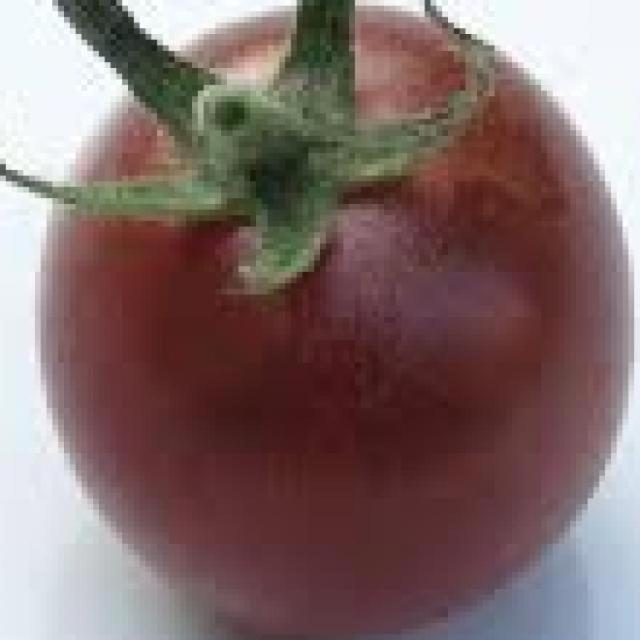Healthy Fruit: (19, 13, 420, 427)
